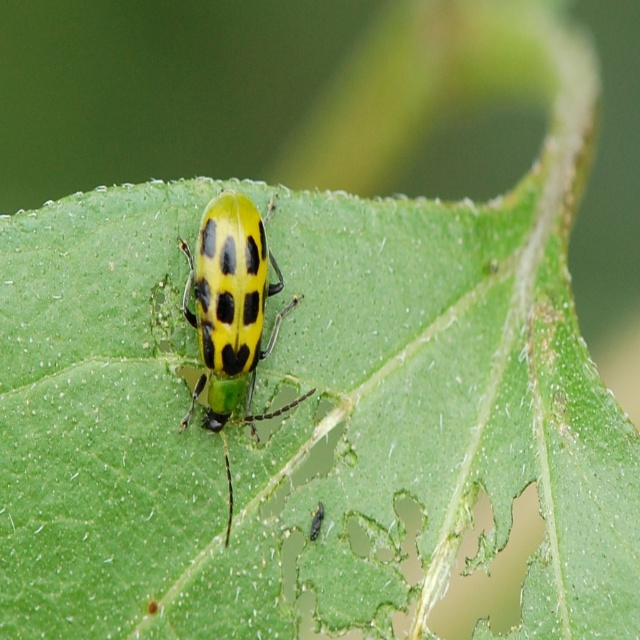Ladybug: (175, 189, 317, 548)
